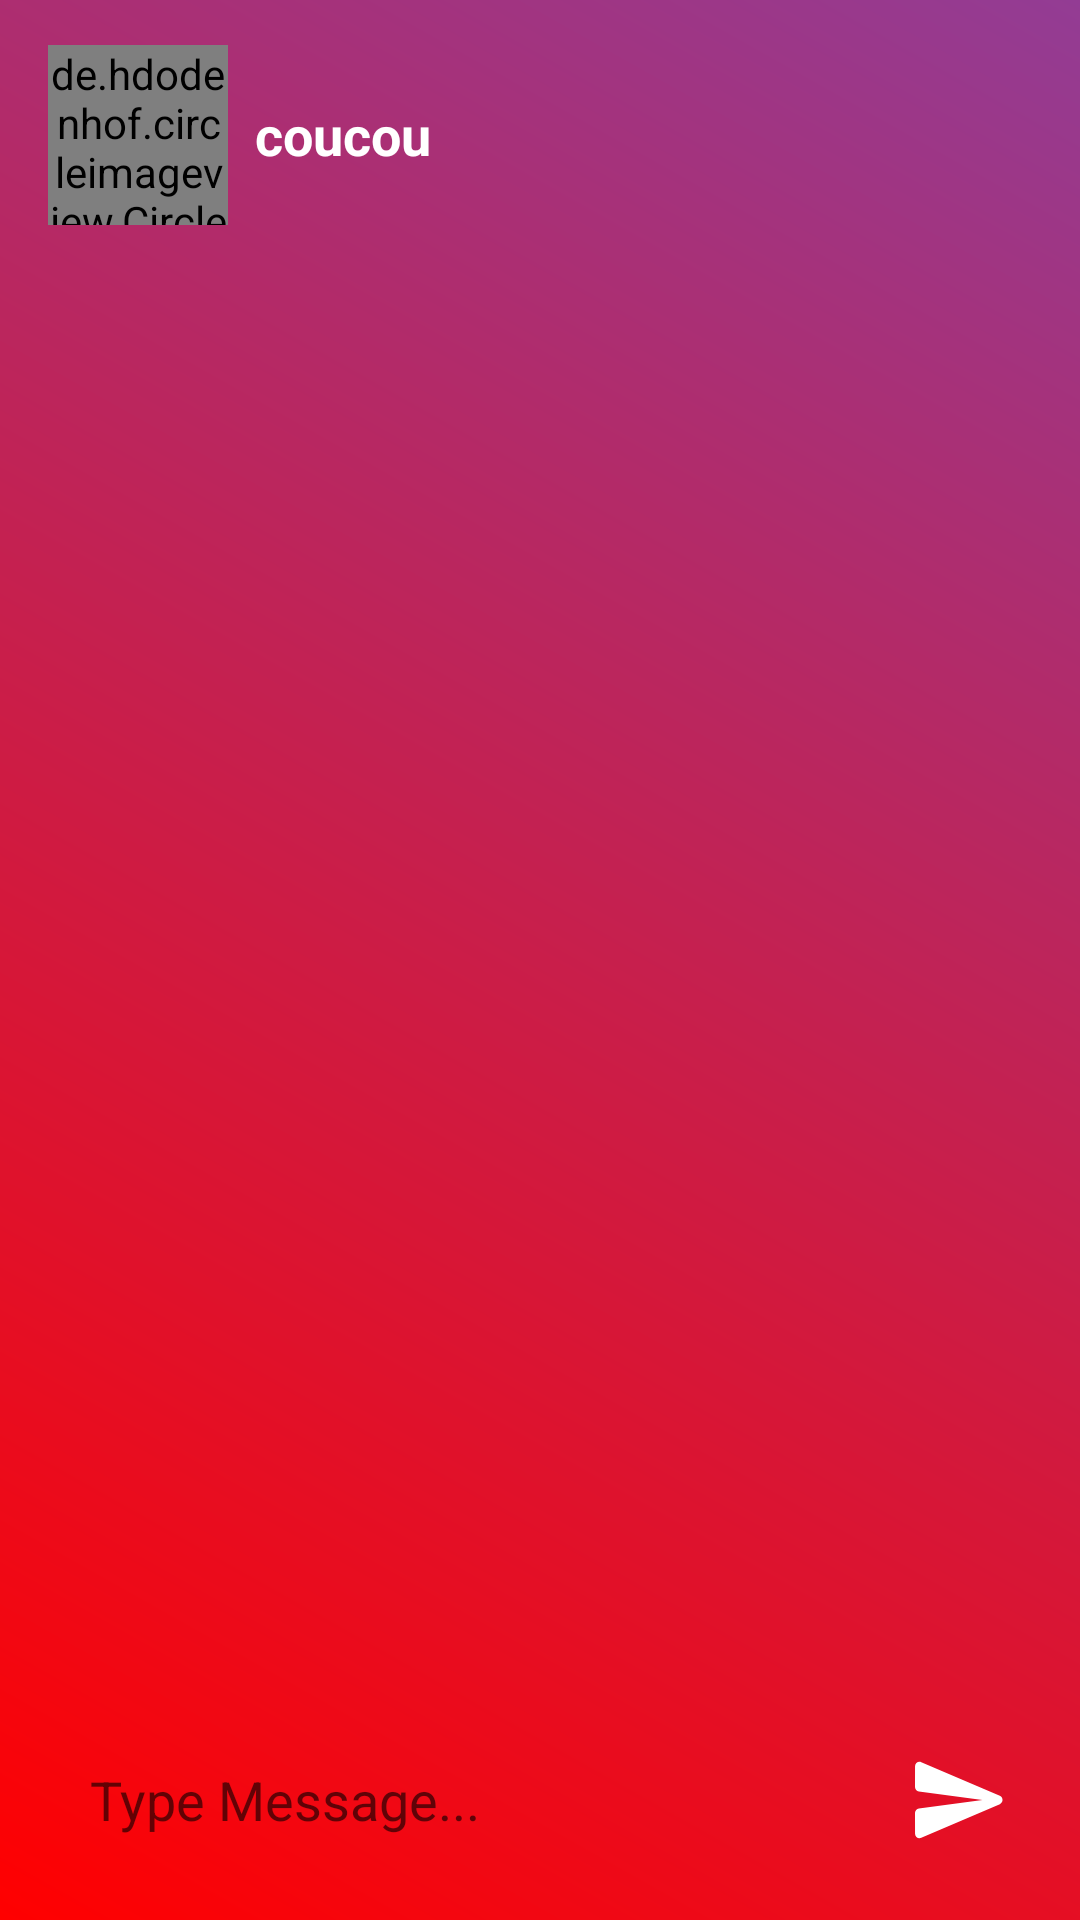

Icon bounding boxes for this 1080 × 1920 phone screenshot, format BBox(x1, y1, x2, y2):
send: BBox(915, 1761, 1003, 1839)
